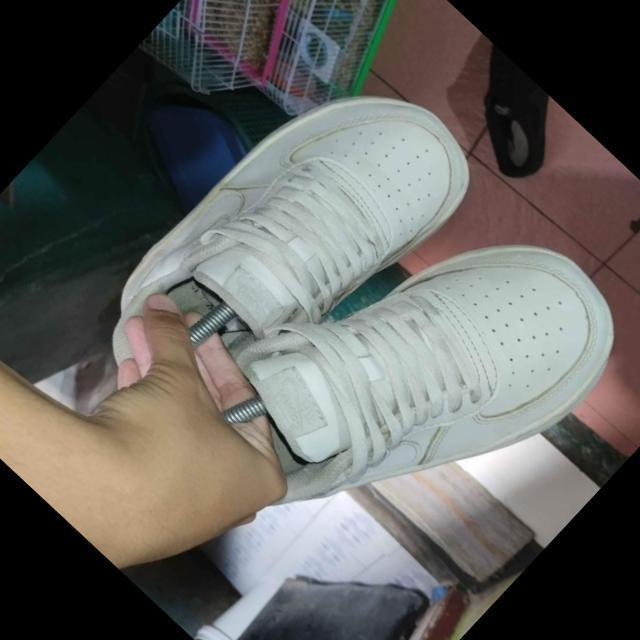nike fake air force: (164, 136, 640, 627), (86, 38, 498, 460)
